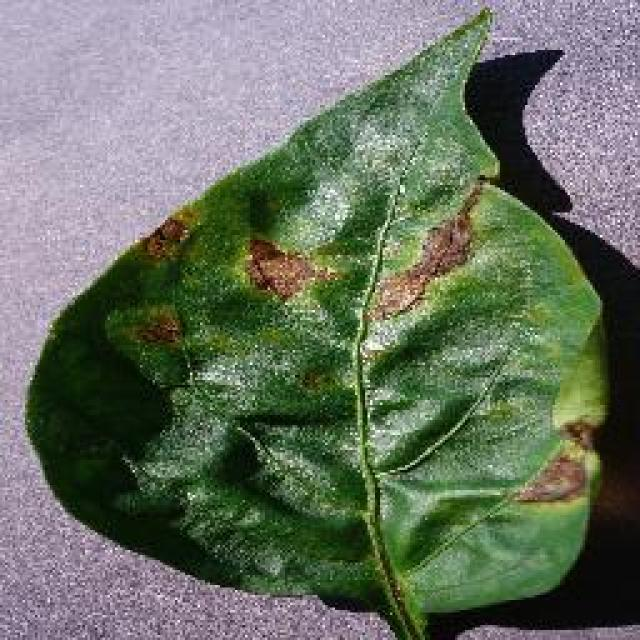Chilli_Bacterial_Spot: (20, 5, 618, 637), (235, 175, 490, 325), (362, 177, 488, 325), (100, 295, 195, 390), (240, 233, 318, 305), (510, 450, 588, 508), (123, 305, 185, 353), (138, 212, 192, 262), (292, 360, 338, 398)
